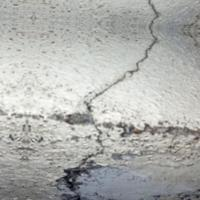crack: (69, 0, 191, 117)
